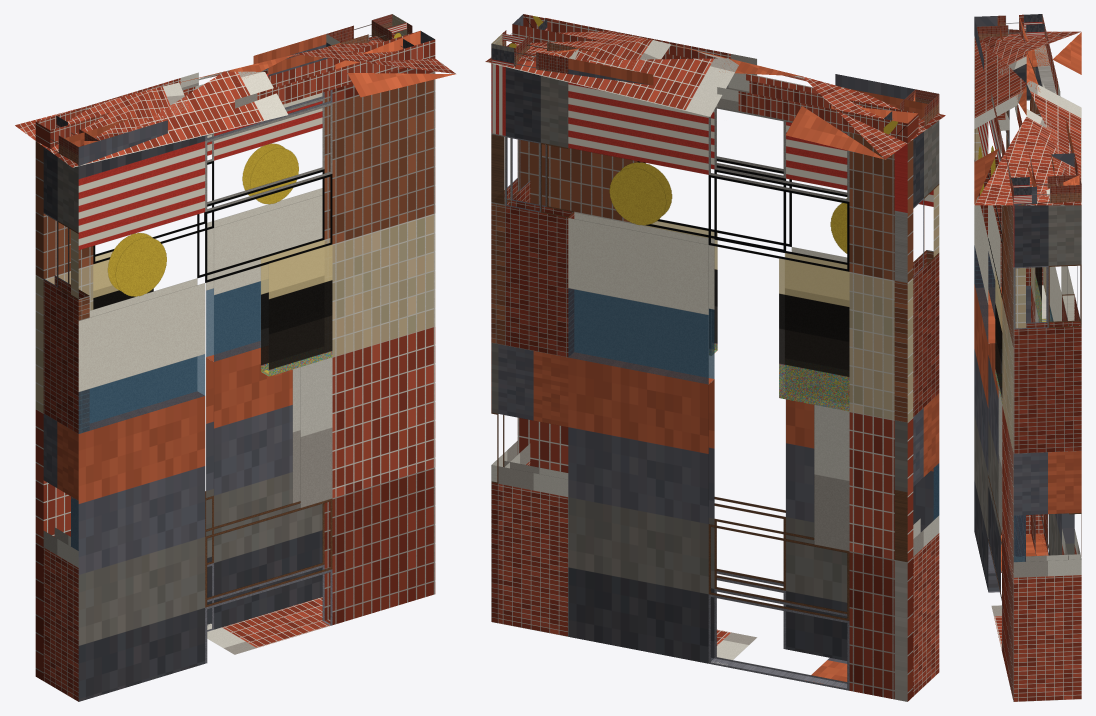
3 renders of one model, left to right at view 1: azimuth 30°, elevation 25°; view 2: azimuth 150°, elevation 25°; view 3: azimuth 270°, elevation 25°, orthographic. The views are drawn at different scales.
Visible parts, largest first — view 1: 238536143__wall_0_xb, 238536143__wall_3_xb, 238536143__wall_4_xb, 238536143__wall_0_xf, 238536143_roof_front_xb, 238536143__cornice_0, 238536143__wall_3_xf, 238536143_roof_left_xb, 238536143__base, 238536143__cornice_3, 238536143_roof_right_xb, 238536143__cornice_2; view 2: 238536143__wall_3_xb, 238536143__wall_2_xb, 238536143__wall_0_xb, 238536143__wall_3_xf, 238536143__wall_4_xb, 238536143_roof_back_xb, 238536143__cornice_3, 238536143__cornice_0, 238536143_roof_right_xb, 238536143_roof_left_xb, 238536143__wall_1_xb, 238536143__cornice_2 (+3 smaller); view 3: 238536143__wall_1_xb, 238536143__wall_0_xb, 238536143_roof_right_xb, 238536143__wall_3_xb, 238536143_roof_front_xb, 238536143_roof_back_xb, 238536143__wall_4_xb, 238536143__wall_0_xf, 238536143_roof_left_xb, 238536143__cornice_1, 238536143__cornice_0, 238536143__cornice_3 (+4 smaller).
Boxes of the visible parts, x1,y1,x2,y2 form: 238536143__wall_0_xb: [71, 67, 435, 701]; 238536143__wall_3_xb: [35, 73, 323, 680]; 238536143__wall_4_xb: [43, 147, 89, 701]; 238536143__wall_0_xf: [71, 135, 331, 550]; 238536143_roof_front_xb: [73, 71, 455, 167]; 238536143__cornice_0: [64, 30, 435, 165]; 238536143__wall_3_xf: [93, 143, 284, 361]; 238536143_roof_left_xb: [15, 54, 294, 167]; 238536143__base: [207, 597, 330, 654]; 238536143__cornice_3: [35, 34, 340, 148]; 238536143_roof_right_xb: [179, 33, 455, 82]; 238536143__cornice_2: [326, 14, 406, 46]; 238536143__wall_3_xb: [568, 82, 913, 701]; 238536143__wall_2_xb: [491, 63, 574, 636]; 238536143__wall_0_xb: [517, 86, 939, 660]; 238536143__wall_3_xf: [568, 162, 849, 525]; 238536143__wall_4_xb: [894, 120, 939, 701]; 238536143_roof_back_xb: [486, 58, 884, 159]; 238536143__cornice_3: [568, 48, 918, 143]; 238536143__cornice_0: [512, 14, 927, 120]; 238536143_roof_right_xb: [485, 17, 801, 76]; 238536143_roof_left_xb: [672, 44, 945, 159]; 238536143__wall_1_xb: [491, 64, 530, 621]; 238536143__cornice_2: [491, 33, 578, 73]; 238536143__wall_1_xb: [1013, 205, 1081, 701]; 238536143__wall_0_xb: [974, 119, 1025, 701]; 238536143_roof_right_xb: [974, 52, 1081, 205]; 238536143__wall_3_xb: [1030, 45, 1074, 555]; 238536143_roof_front_xb: [974, 36, 1026, 204]; 238536143_roof_back_xb: [1027, 32, 1081, 204]; 238536143__wall_4_xb: [974, 58, 1043, 535]; 238536143__wall_0_xf: [974, 247, 1025, 561]; 238536143_roof_left_xb: [980, 31, 1080, 115]; 238536143__cornice_1: [1011, 175, 1081, 204]; 238536143__cornice_0: [974, 16, 1036, 205]; 238536143__cornice_3: [1019, 14, 1074, 166].
Bounding box in the file's own units: 0.5252 × 0.7412 × 0.1374.
Materials: 1 (1 with a texture image).
